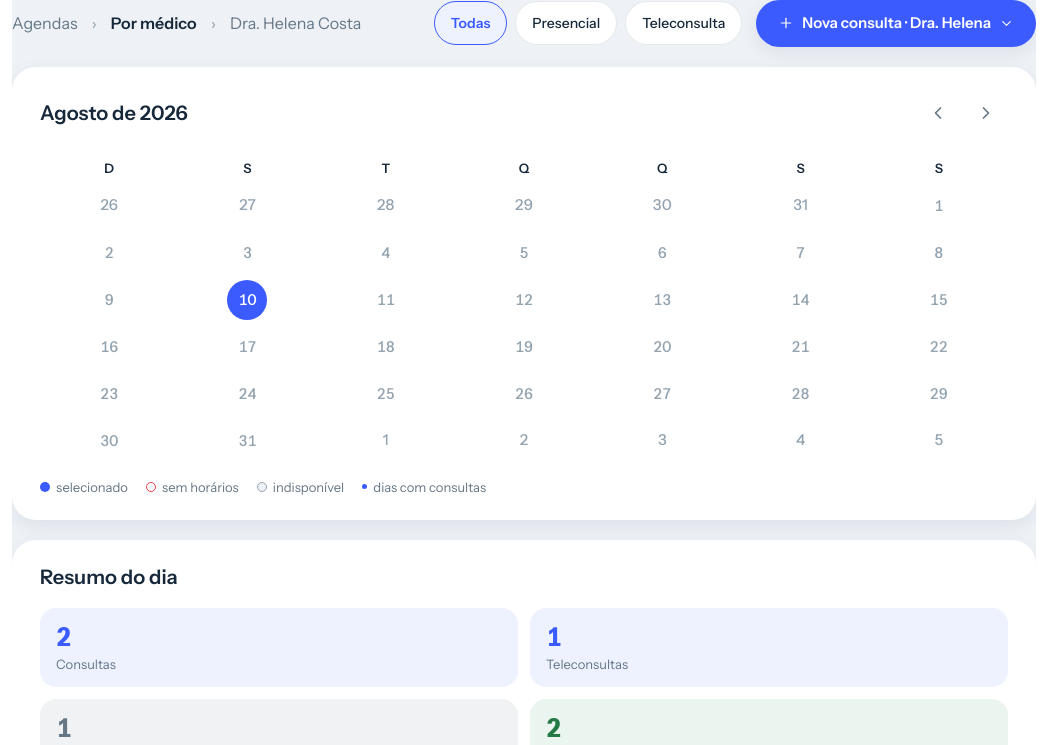
filtro de tipo marca o horário como ocupado sem mexer no resumo
The width and height of the screenshot is (1048, 745).
Click the button "Teleconsulta".
click(684, 23)  # box x1=625 y1=1 x2=742 y2=45
(page scrolled)
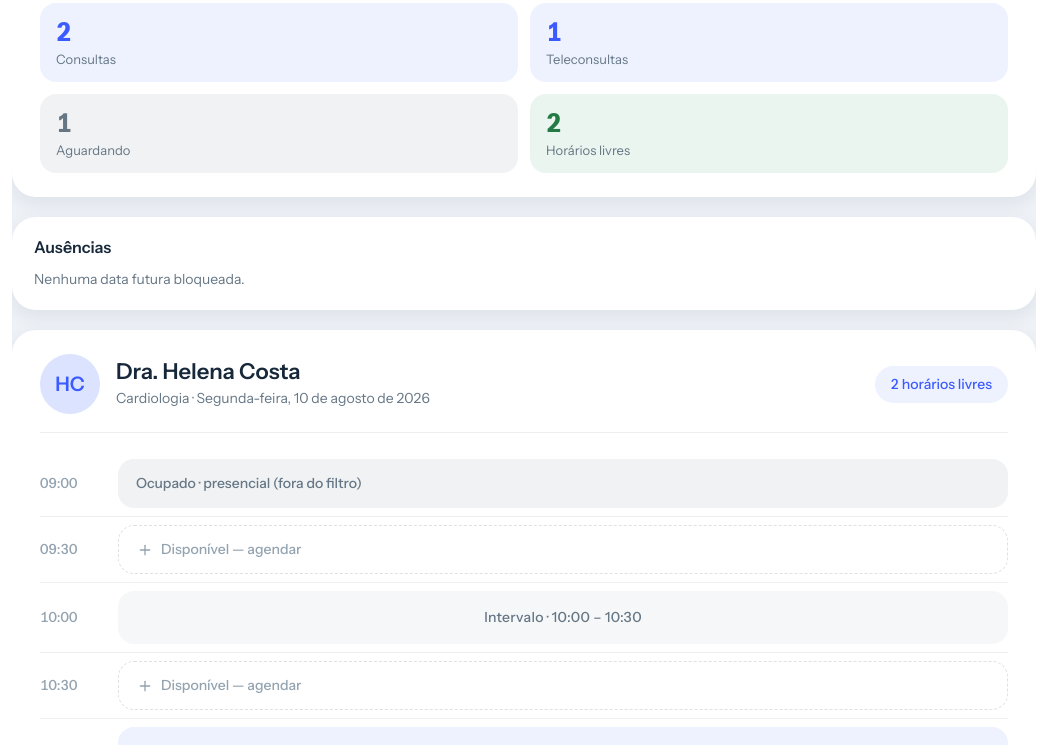
Expected: the text "2 horários livres" is shown, x1=875 y1=366 x2=1008 y2=403
Expected: the text "Ocupado · presencial (fora do filtro)" is shown, x1=118 y1=459 x2=1008 y2=508
